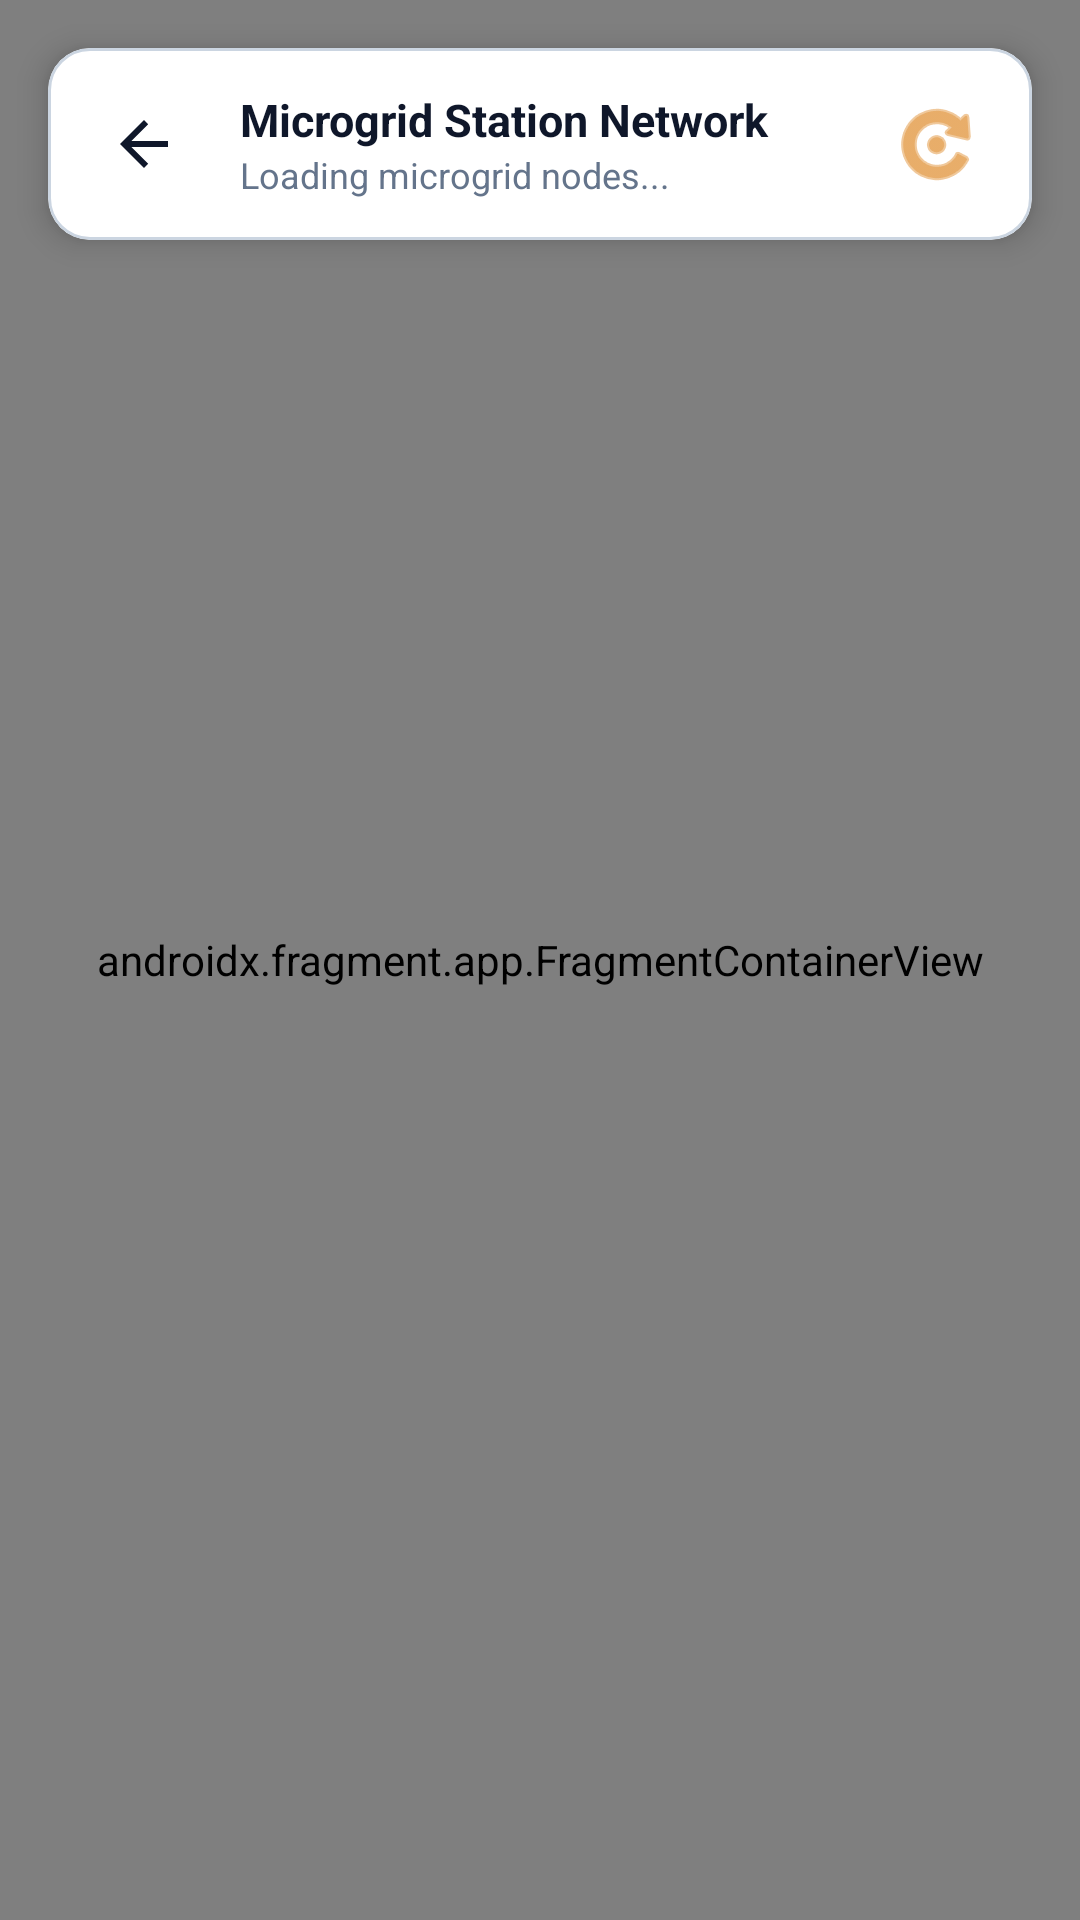

Where to tap for icons on this 1080 × 1920 app screen, as (x=x, y=y):
Back: (x=144, y=144)
Refresh: (x=936, y=144)
